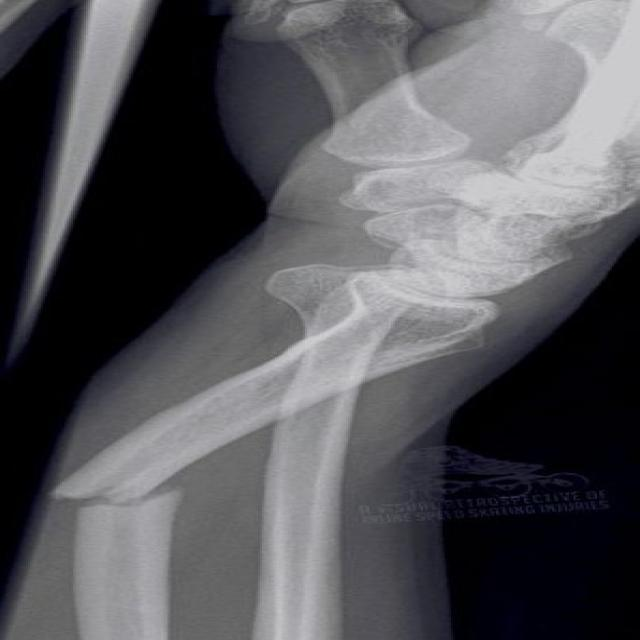fracture: (39, 440, 238, 542)
